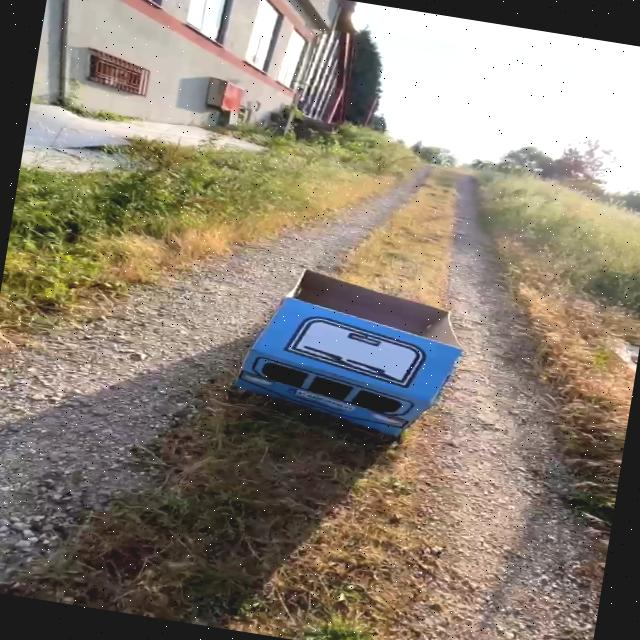blue_car: (190, 224, 507, 471)
